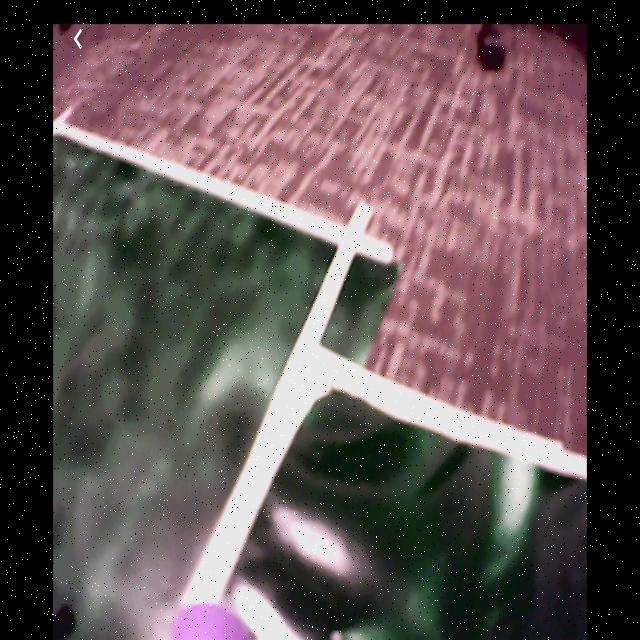ball: (171, 604, 256, 640)
